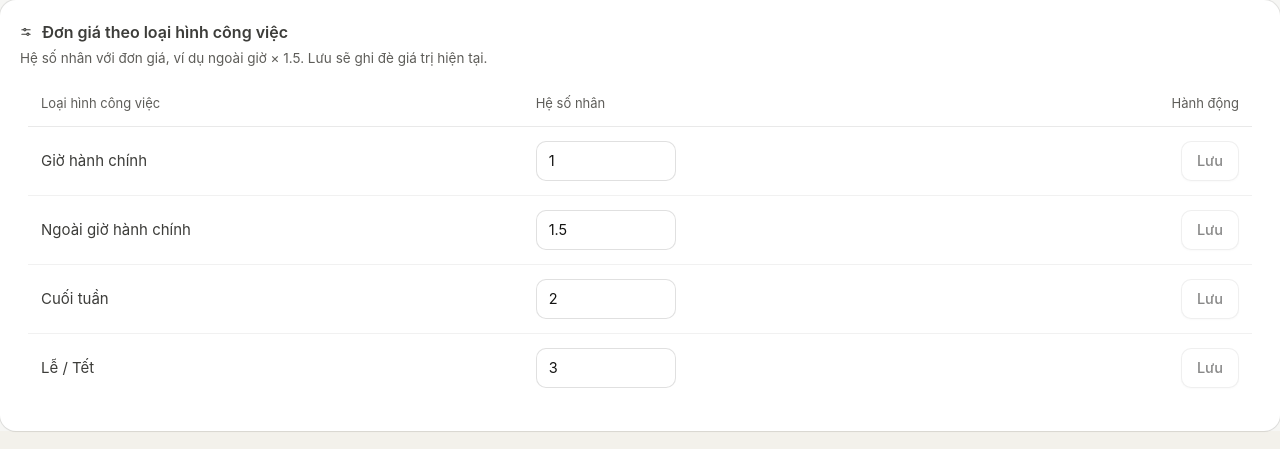
it: WorkTypeRateManager (NCL-07-CN-006 — Đơn giá theo loại hình công việc) › nút Lưu bị vô hiệu khi chưa đổi giá trị, chỉ bật khi có thay đổi
This screenshot has width=1280, height=449.
Expected: the button "Lưu" in the row of "Ngoài giờ hành chính" is disabled, 1181,210 -> 1239,250
Replace the text in the number field named "Hệ số Ngoài giờ hành chính" with "1.75" at coordinates (606, 230), box 536,210 -> 676,250
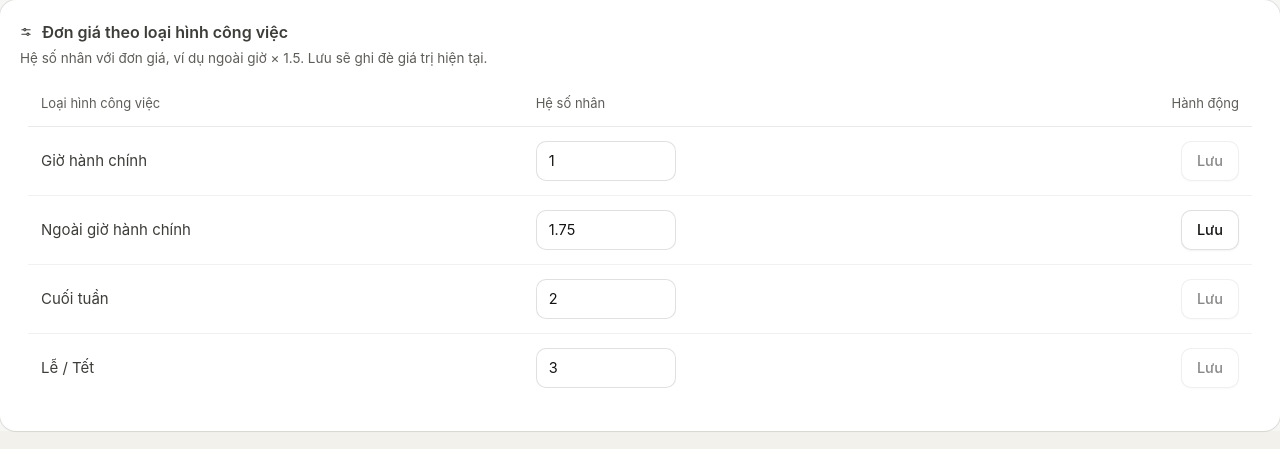
Result: the button "Lưu" in the row of "Ngoài giờ hành chính" is enabled at 1181,210 -> 1239,250
